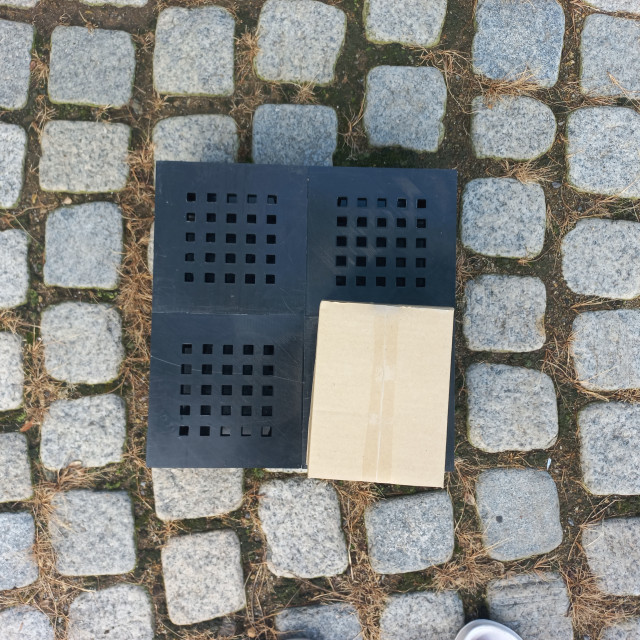box: (303, 298, 452, 490)
